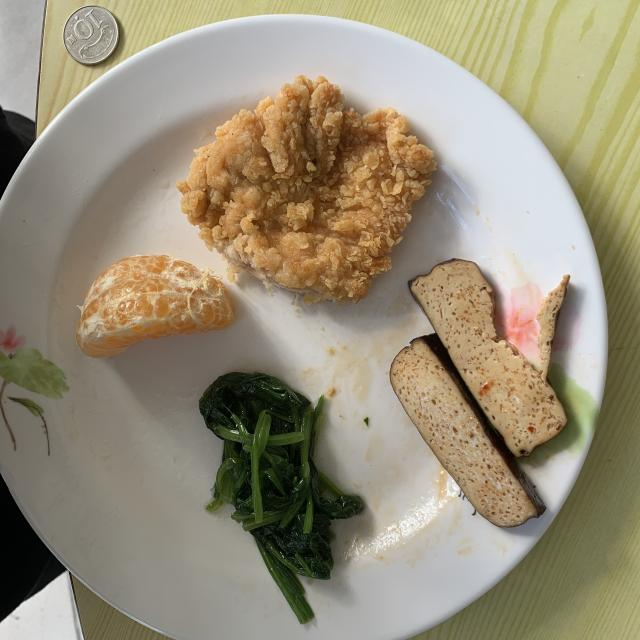coin: (62, 5, 119, 65)
firm tofu: (390, 260, 569, 528)
fried chicken cutlet: (178, 76, 436, 302)
mustard greens: (200, 372, 364, 622)
